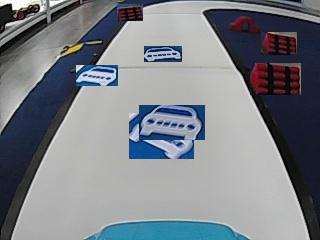bridge: (228, 16, 259, 32)
